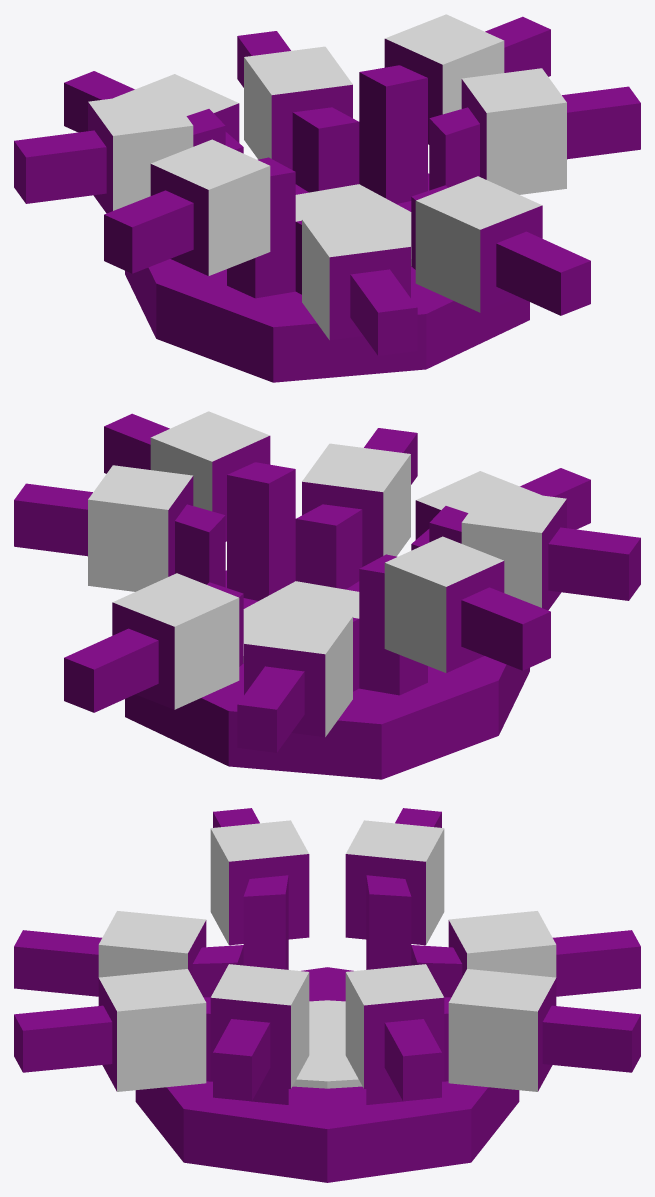
The model's file is enemigo3.fbx.
The picture shows the model from 3 angles, top to bottom: view 1: azimuth 30°, elevation 25°; view 2: azimuth 150°, elevation 25°; view 3: azimuth 270°, elevation 25°; orthographic projection. The views are drawn at different scales.
Parts seen in each view (by area): view 1: Hull, CannonLights, CentralLight; view 2: Hull, CannonLights, CentralLight; view 3: Hull, CannonLights, CentralLight.
Boxes of the visible parts, bbox=[...] form: Hull: bbox=[14, 16, 640, 382]; CannonLights: bbox=[88, 14, 566, 339]; CentralLight: bbox=[295, 184, 411, 265]; Hull: bbox=[14, 413, 640, 779]; CannonLights: bbox=[88, 411, 566, 736]; CentralLight: bbox=[243, 581, 359, 662]; Hull: bbox=[14, 808, 640, 1182]; CannonLights: bbox=[98, 820, 556, 1091]; CentralLight: bbox=[292, 1000, 362, 1088].
Size of the model in its own units: 57.05 by 20.25 by 60.89.
